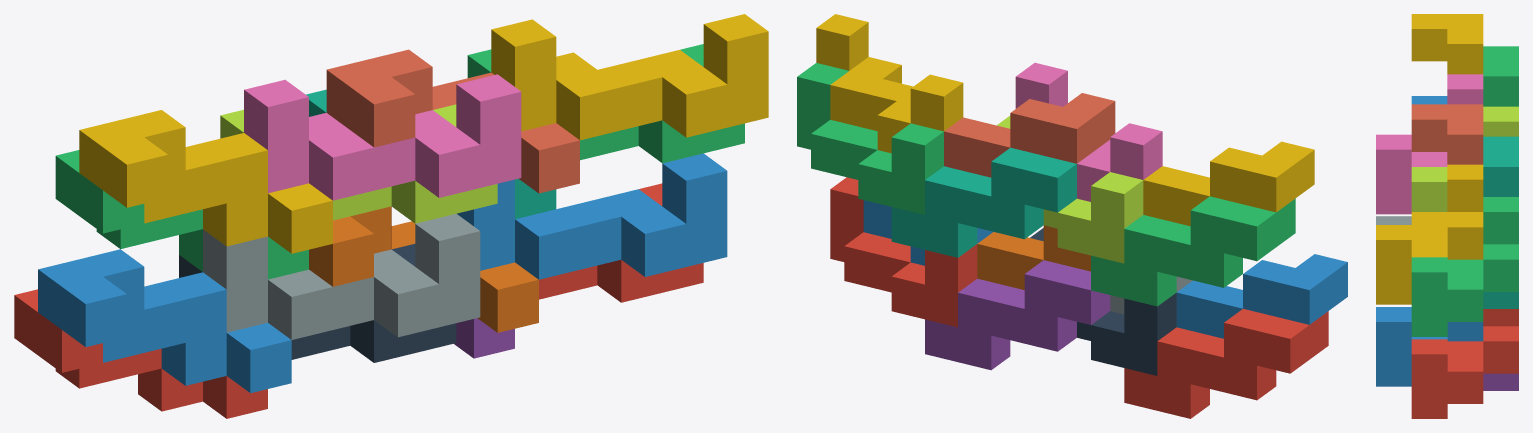
Rendered from tiling.obj.
3 renders of one model, left to right at view 1: azimuth 30°, elevation 25°; view 2: azimuth 150°, elevation 25°; view 3: azimuth 270°, elevation 25°, orthographic. The views are drawn at different scales.
Visible parts, largest first — view 1: copy_2_domain_8, copy_2_domain_4, copy_1_domain_2, copy_1_domain_4, copy_2_domain_2, copy_2_domain_6, copy_1_domain_8, copy_1_domain_1, copy_1_domain_6, copy_1_domain_3, copy_2_domain_7, copy_2_domain_3 (+4 smaller); view 2: copy_1_domain_1, copy_1_domain_3, copy_1_domain_7, copy_1_domain_5, copy_2_domain_7, copy_2_domain_8, copy_2_domain_5, copy_1_domain_4, copy_1_domain_8, copy_1_domain_2, copy_2_domain_3, copy_2_domain_4 (+3 smaller); view 3: copy_2_domain_7, copy_2_domain_8, copy_2_domain_5, copy_2_domain_4, copy_1_domain_8, copy_1_domain_4, copy_2_domain_6, copy_1_domain_7, copy_2_domain_3, copy_1_domain_3, copy_1_domain_5, copy_1_domain_2 (+1 smaller).
Boxes of the visible parts, <box> form: copy_2_domain_8: <box>491,14,768,140</box>; copy_2_domain_4: <box>244,74,521,200</box>; copy_1_domain_2: <box>38,249,291,393</box>; copy_1_domain_4: <box>79,110,332,253</box>; copy_2_domain_2: <box>203,213,480,339</box>; copy_2_domain_6: <box>457,153,727,279</box>; copy_1_domain_8: <box>326,49,579,193</box>; copy_1_domain_1: <box>14,289,267,418</box>; copy_1_domain_6: <box>309,206,538,332</box>; copy_1_domain_3: <box>55,150,308,279</box>; copy_2_domain_7: <box>467,44,744,163</box>; copy_2_domain_3: <box>220,104,497,223</box>; copy_1_domain_1: <box>1124,309,1328,418</box>; copy_1_domain_3: <box>1091,196,1295,306</box>; copy_1_domain_7: <box>891,147,1076,257</box>; copy_1_domain_5: <box>925,260,1110,370</box>; copy_2_domain_7: <box>797,63,943,214</box>; copy_2_domain_8: <box>816,14,963,153</box>; copy_2_domain_5: <box>830,177,977,327</box>; copy_1_domain_4: <box>1143,141,1314,226</box>; copy_1_domain_8: <box>944,93,1115,177</box>; copy_1_domain_2: <box>1176,254,1347,338</box>; copy_2_domain_3: <box>996,115,1143,263</box>; copy_2_domain_4: <box>1015,62,1162,201</box>; copy_2_domain_7: <box>1411,197,1518,336</box>; copy_2_domain_8: <box>1376,164,1483,304</box>; copy_2_domain_5: <box>1411,309,1518,418</box>; copy_2_domain_4: <box>1376,74,1483,214</box>; copy_1_domain_8: <box>1411,104,1483,164</box>; copy_1_domain_4: <box>1411,14,1483,74</box>; copy_2_domain_6: <box>1376,307,1483,386</box>; copy_1_domain_7: <box>1483,136,1518,308</box>; copy_2_domain_3: <box>1411,106,1518,211</box>; copy_1_domain_3: <box>1483,46,1518,106</box>; copy_1_domain_5: <box>1483,373,1518,390</box>; copy_1_domain_2: <box>1411,96,1447,104</box>.
Size of the model in its own units: 16 by 7 by 4.
